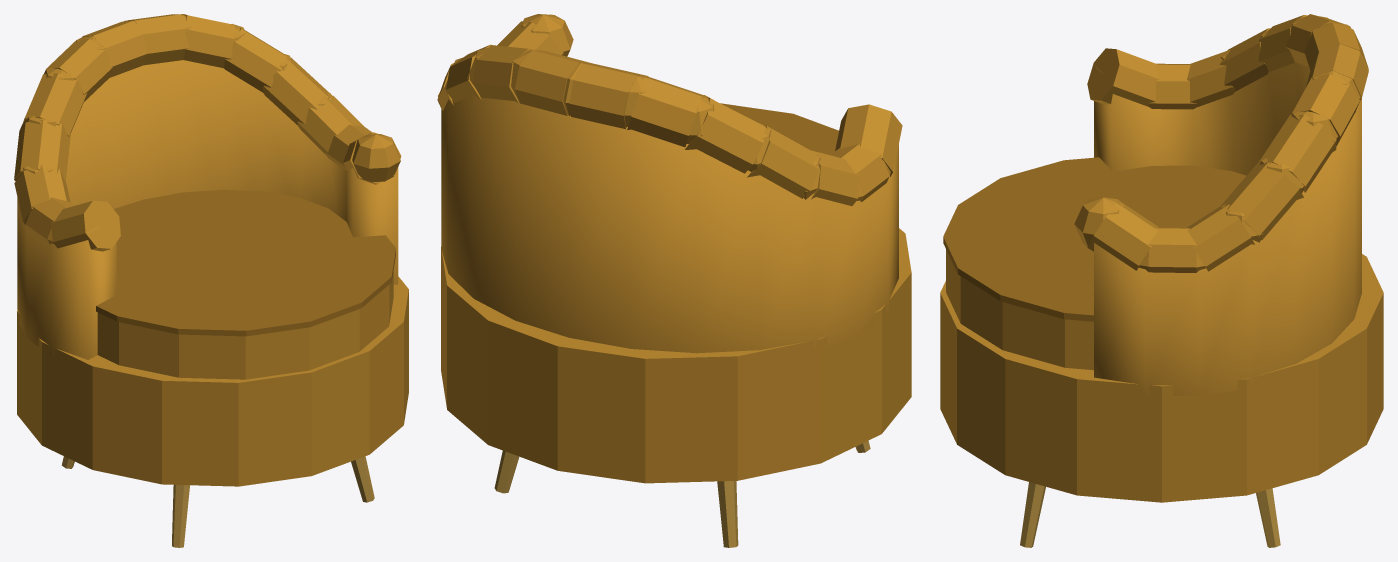
Rendered from chair_velvet.glb.
The picture shows the model from 3 angles, left to right: view 1: azimuth 30°, elevation 25°; view 2: azimuth 150°, elevation 25°; view 3: azimuth 270°, elevation 25°; orthographic projection. The views are drawn at different scales.
Visible parts, largest first — view 1: Chair_velvet; view 2: Chair_velvet; view 3: Chair_velvet.
Part boxes in pixels (x1,y1,x2,y2): Chair_velvet: (14,14,408,547); Chair_velvet: (437,14,911,547); Chair_velvet: (940,14,1383,547).
Size of the model in its own units: 0.7637 by 0.8525 by 0.76.
